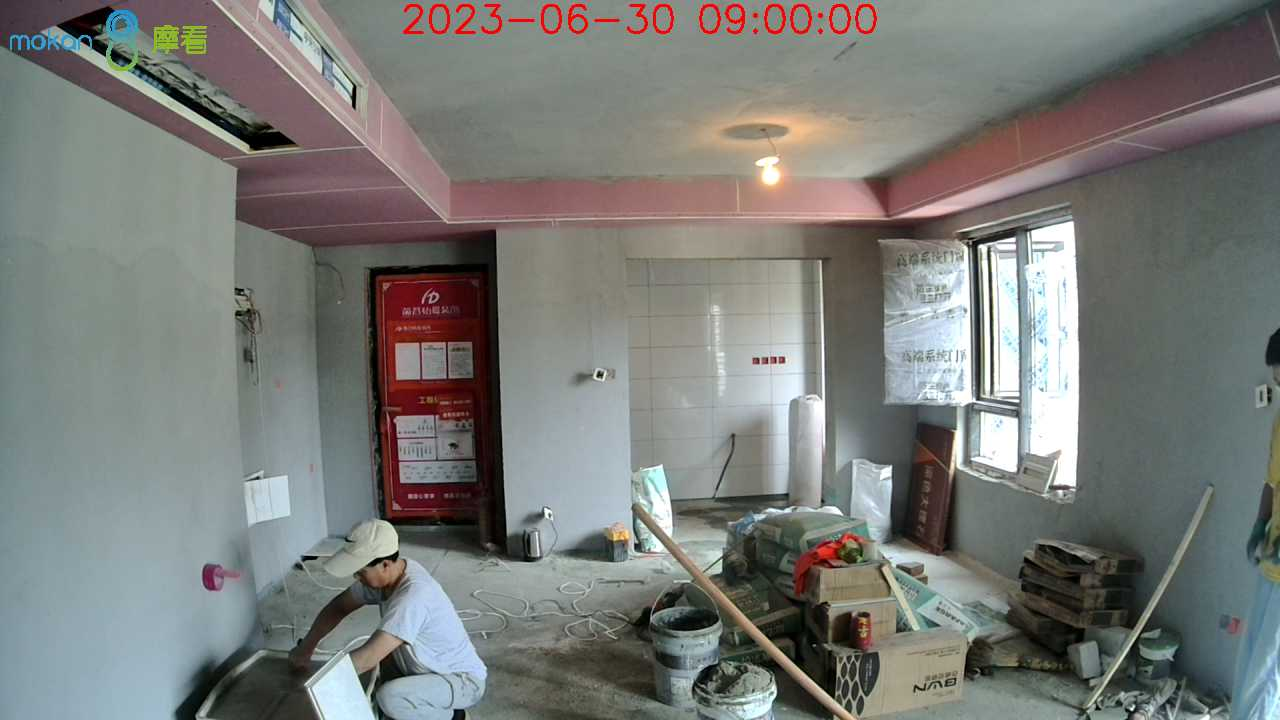people: (285, 519, 486, 720)
window: (967, 241, 1077, 493)
